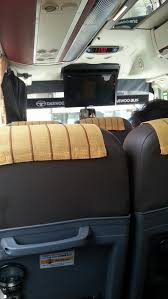seat: (3, 108, 131, 268)
